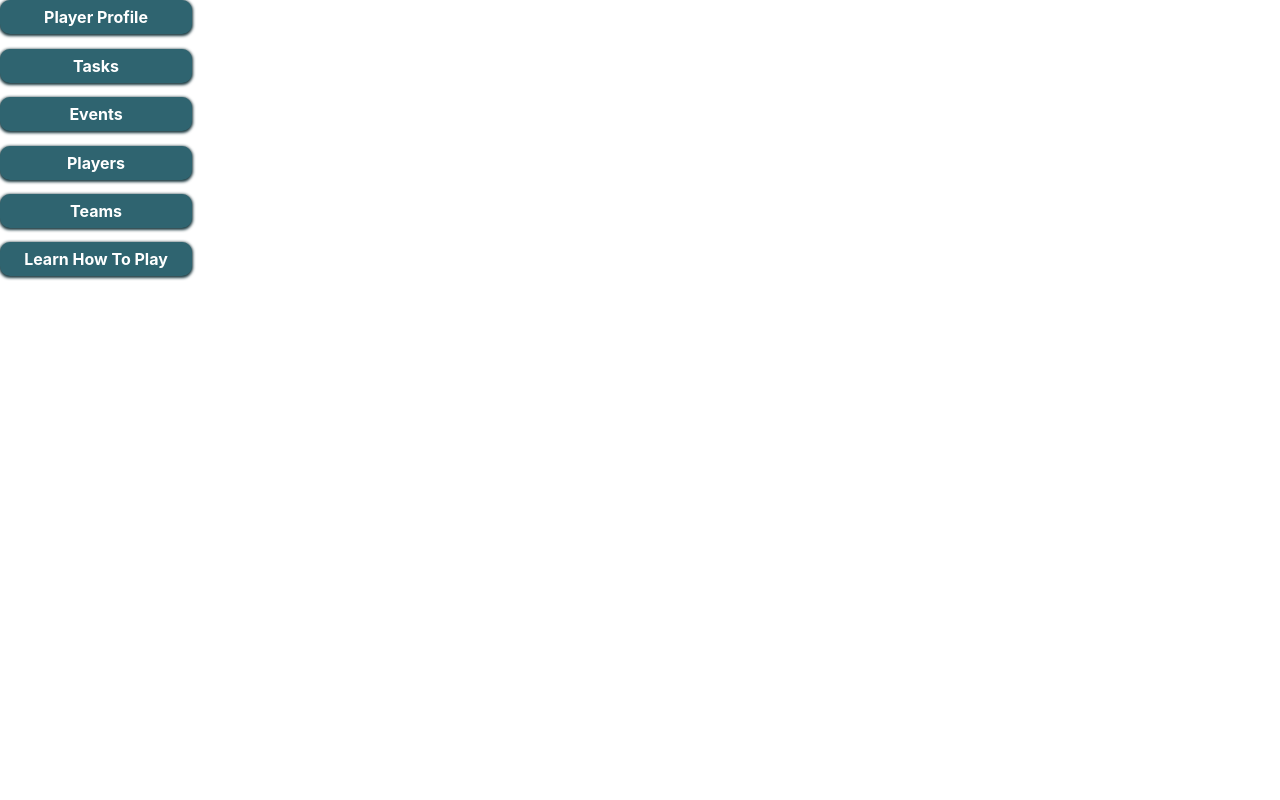
Test: SideBarButtons › opens GameInfoModal when Learn How To Play button is clicked
The width and height of the screenshot is (1280, 800).
Click the button with test id "learn-button" at [96, 259], box x1=0 y1=242 x2=192 y2=276
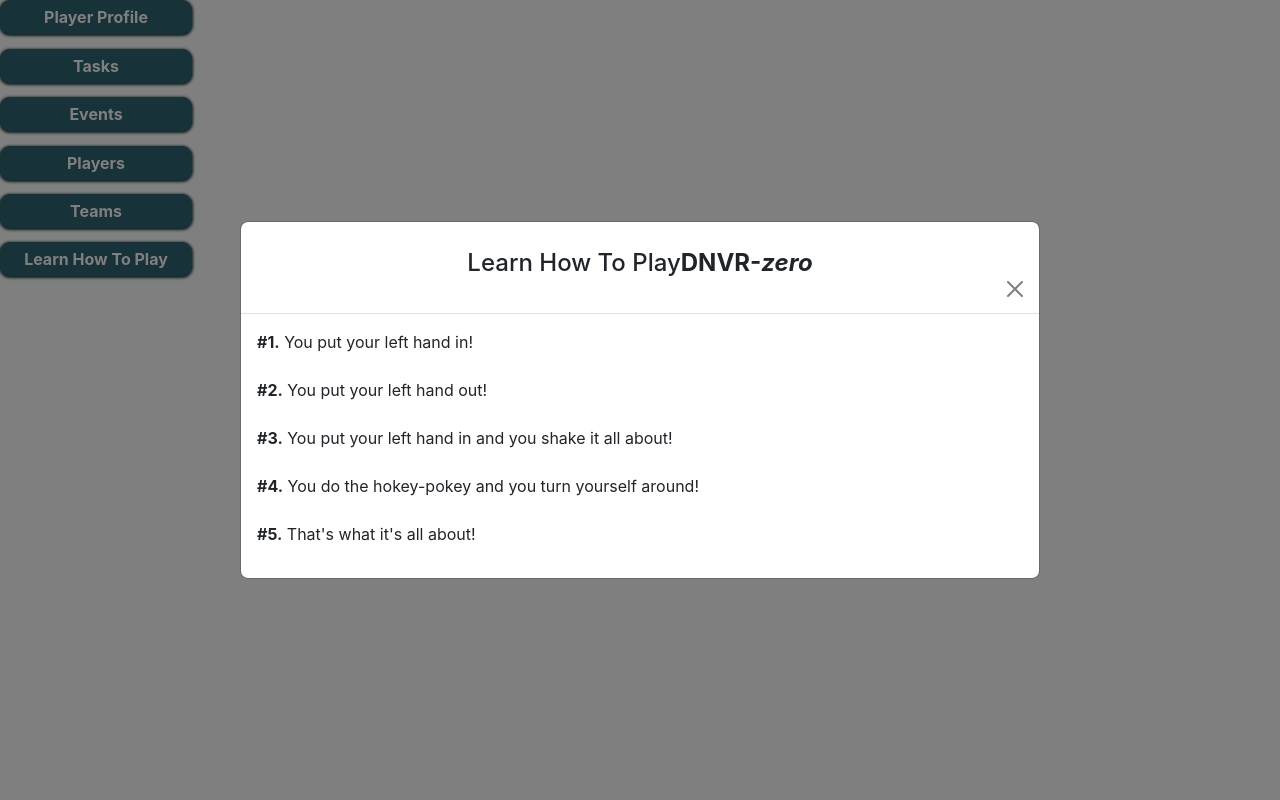
Expected: the text "Learn How To Play" is shown, x1=467 y1=248 x2=681 y2=278
